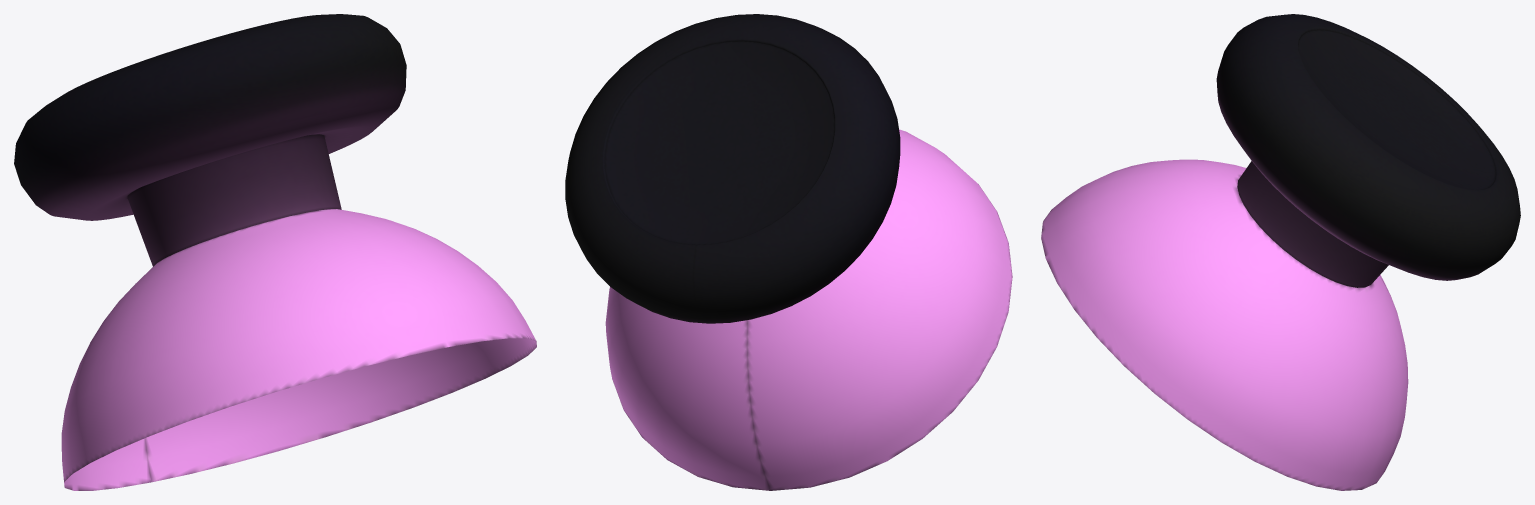
The model's file is oculus_quest_plus_controller_right_thumbstick.obj.
The picture shows the model from 3 angles, left to right: view 1: azimuth 30°, elevation 25°; view 2: azimuth 150°, elevation 25°; view 3: azimuth 270°, elevation 25°; orthographic projection. The views are drawn at different scales.
Visible parts, largest first — view 1: oculus_quest_plus_controller_right_thumbstick; view 2: oculus_quest_plus_controller_right_thumbstick; view 3: oculus_quest_plus_controller_right_thumbstick.
Part boxes in pixels (<box>): oculus_quest_plus_controller_right_thumbstick: <box>14,14,536,490</box>; oculus_quest_plus_controller_right_thumbstick: <box>565,14,1012,490</box>; oculus_quest_plus_controller_right_thumbstick: <box>1041,14,1520,490</box>.
Size of the model in its own units: 0.0158 by 0.0173 by 0.0178.
1 material, 1 textured.
